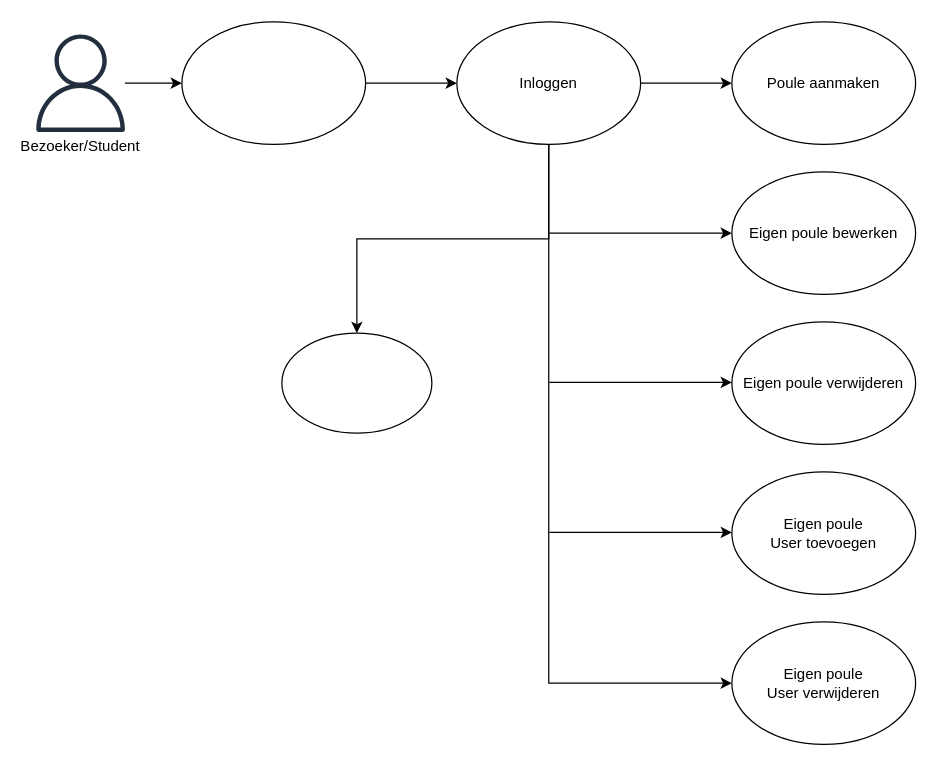
This 938x766 diagram has some shape labels left out. The shapes that lost their labels are listed below. From the top down, each one's centre as x and y in pixels, then its label:
At (273,82): "Homepagina Voorspellingoverzicht".
At (356,382): "Score overzicht".
